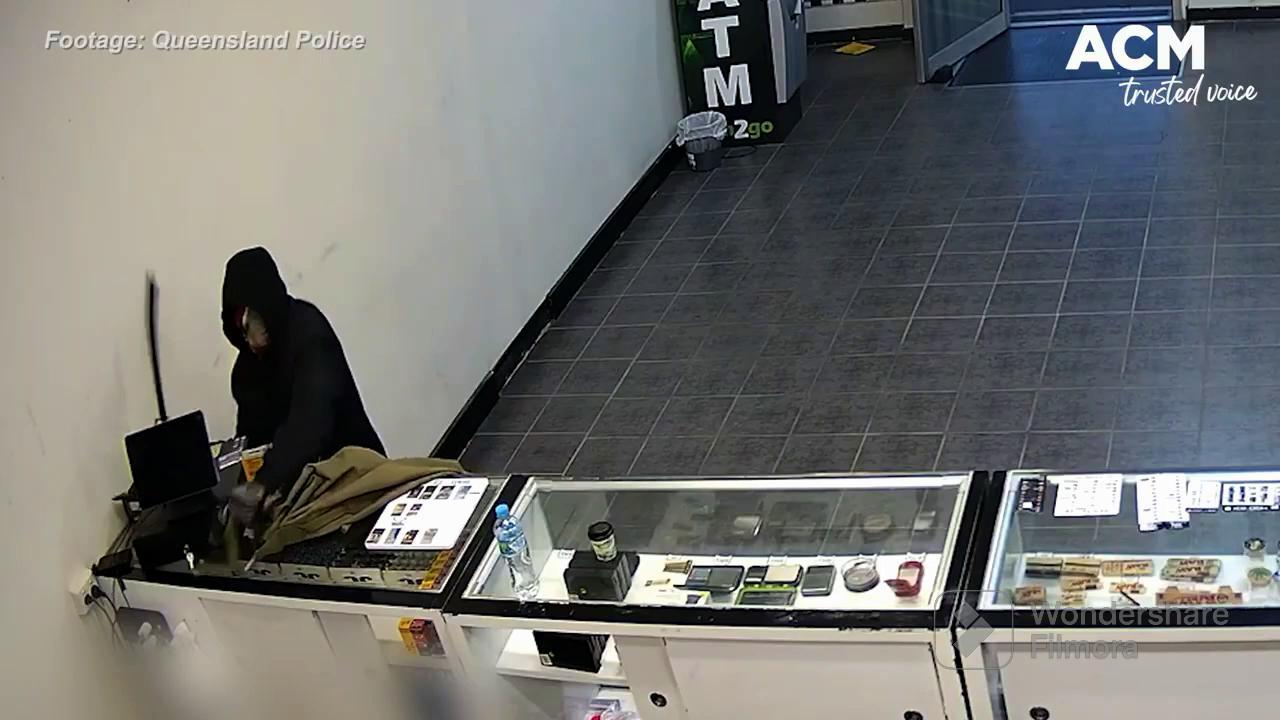melee: (138, 270, 190, 428)
